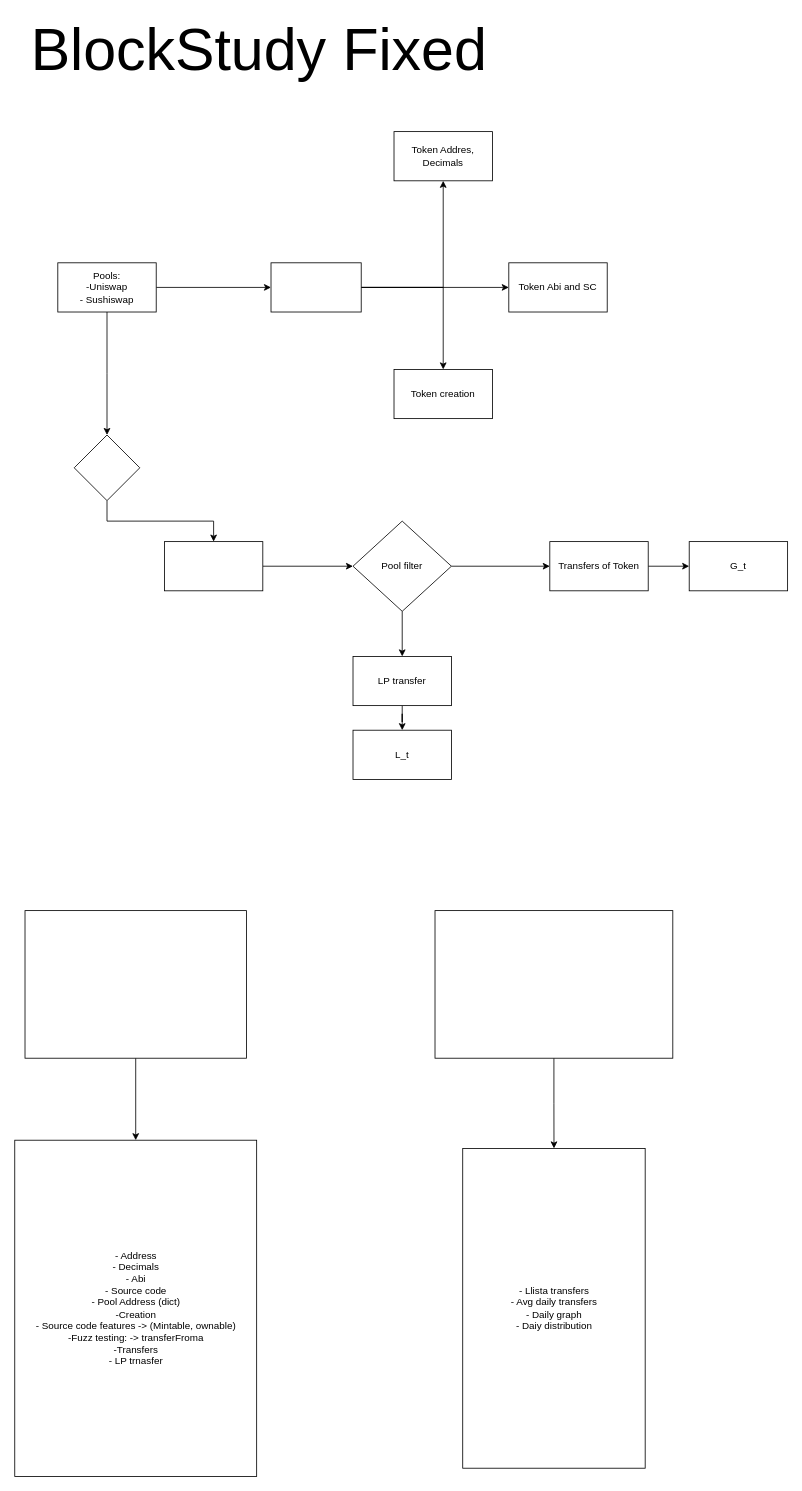
Some shapes in this 802 by 1491 pixel diagram are drawn without their labels. The centre of each missing label's shape, as x and y in pixels:
"Sync events" goes at (x=213, y=566).
"Token" goes at (x=135, y=984).
"Token filter" goes at (x=106, y=467).
"Tokens" goes at (x=315, y=287).
"Transfers" goes at (x=553, y=984).
